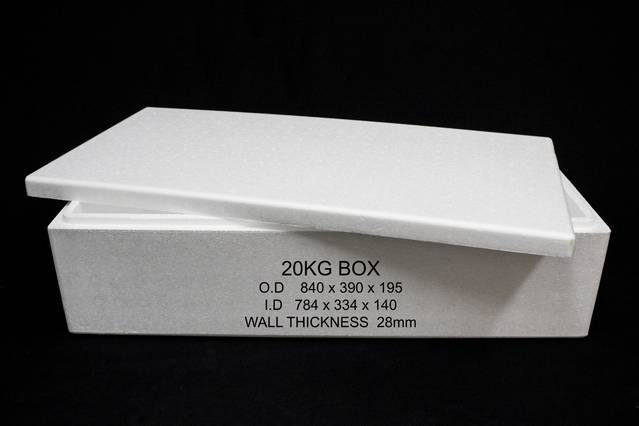Boxes: (26, 108, 609, 337)
